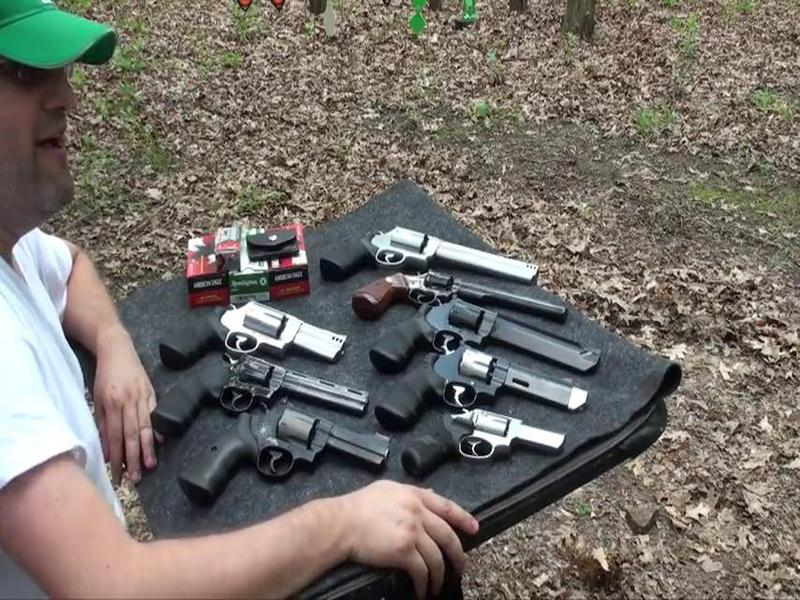Revolver: (397, 413, 570, 490)
